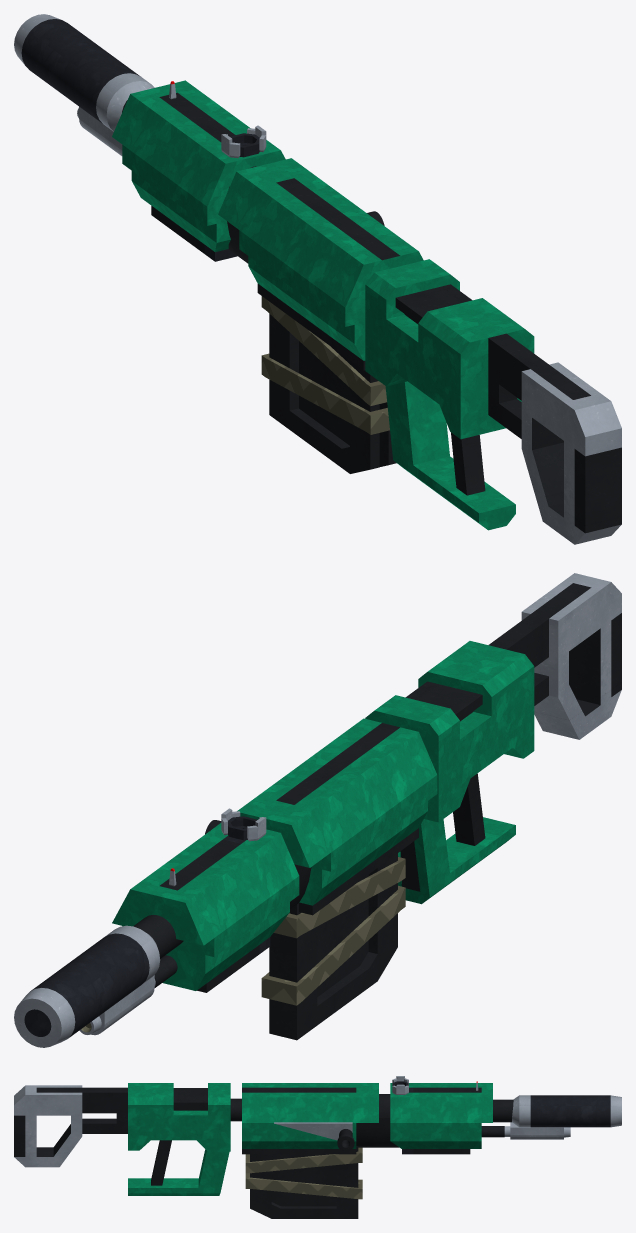
The model's file is bolt1.glb.
3 views of the same model, one above another, from view 1: azimuth 30°, elevation 25°; view 2: azimuth 150°, elevation 25°; view 3: azimuth 270°, elevation 25° (orthographic). The views are drawn at different scales.
Visible parts, largest first — view 1: blaster_handleGuard, largeBlaster_barrelSpace, stock_tactical, clip_tape, largeBlaster_barrelAssault, attachment_silencer, largeBlaster_back, turbine_flaps, scope_small; view 2: blaster_handleGuard, largeBlaster_barrelSpace, largeBlaster_barrelAssault, clip_tape, stock_tactical, attachment_silencer, largeBlaster_back, scope_small, turbine_flaps; view 3: largeBlaster_barrelSpace, blaster_handleGuard, clip_tape, stock_tactical, largeBlaster_barrelAssault, attachment_silencer, largeBlaster_back, scope_small, rudder, attachment_barrelEnd, turbine_flaps.
Boxes of the visible parts, x1,y1,x2,y2 form: blaster_handleGuard: (365,259,534,530); largeBlaster_barrelSpace: (218,158,423,370); stock_tactical: (488,333,621,544); clip_tape: (261,296,396,473); largeBlaster_barrelAssault: (112,80,250,253); attachment_silencer: (14,14,154,131); largeBlaster_back: (186,140,285,261); turbine_flaps: (221,125,266,158); scope_small: (77,106,122,155); blaster_handleGuard: (365,641,534,904); largeBlaster_barrelSpace: (237,718,437,915); largeBlaster_barrelAssault: (112,835,277,992); clip_tape: (261,853,405,1040); stock_tactical: (488,573,621,739); attachment_silencer: (14,925,160,1047); largeBlaster_back: (205,823,299,953); scope_small: (79,975,155,1035); turbine_flaps: (221,808,266,841); largeBlaster_barrelSpace: (242,1083,398,1154); blaster_handleGuard: (128,1083,241,1195); clip_tape: (245,1146,362,1218); stock_tactical: (14,1085,127,1167); largeBlaster_barrelAssault: (413,1083,513,1154); attachment_silencer: (512,1095,621,1127); largeBlaster_back: (390,1083,413,1154); scope_small: (504,1122,570,1139); rudder: (274,1122,352,1140); attachment_barrelEnd: (337,1129,354,1151); turbine_flaps: (392,1076,408,1094).
Size of the model in its own units: 0.7 by 1.3 by 5.33.
31 materials, 30 textured.
